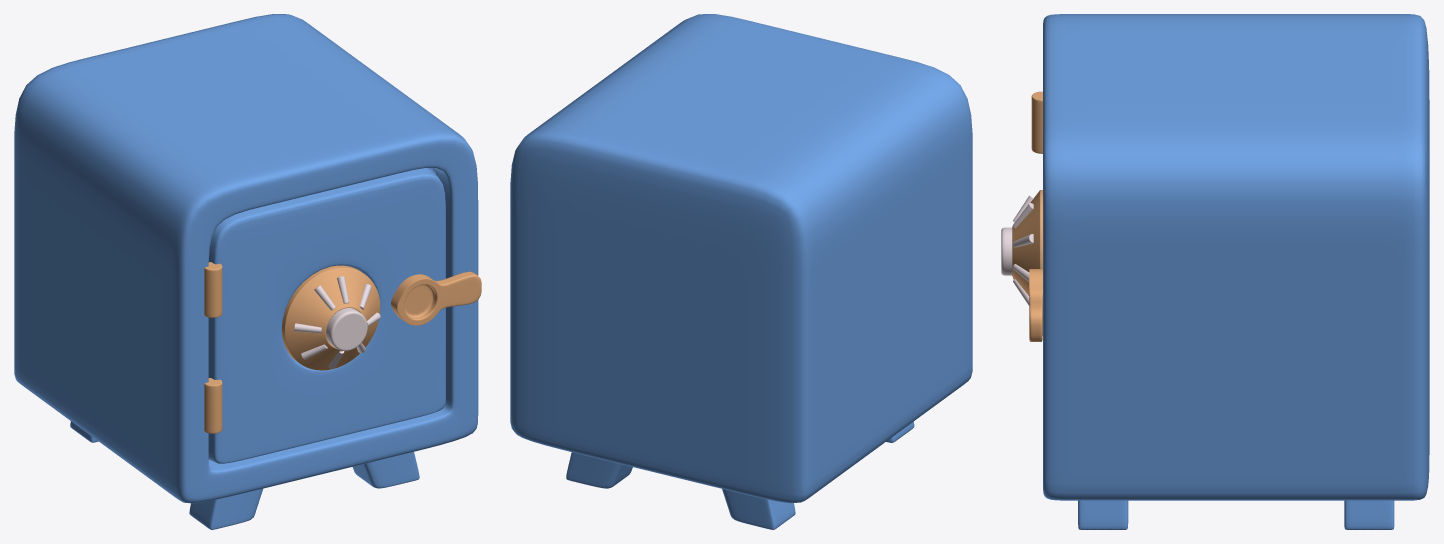
The picture shows the model from 3 angles, left to right: view 1: azimuth 30°, elevation 25°; view 2: azimuth 150°, elevation 25°; view 3: azimuth 270°, elevation 25°; orthographic projection. The views are drawn at different scales.
Parts seen in each view (by area): view 1: Cube, Cube.003, Circle, Cube.001, Circle.001, Cube.002; view 2: Cube, Cube.001; view 3: Cube, Circle, Cube.001, Circle.001, Cube.002.
Part boxes in pixels (left/top/right/bottom): Cube: left=14, top=14, right=478, bottom=503; Cube.003: left=208, top=168, right=445, bottom=463; Circle: left=282, top=265, right=380, bottom=370; Cube.001: left=70, top=421, right=419, bottom=529; Circle.001: left=391, top=271, right=481, bottom=325; Cube.002: left=204, top=262, right=222, bottom=433; Cube: left=510, top=14, right=972, bottom=503; Cube.001: left=566, top=422, right=914, bottom=529; Cube: left=1043, top=14, right=1429, bottom=500; Circle: left=1001, top=190, right=1042, bottom=305; Cube.001: left=1078, top=500, right=1394, bottom=529; Circle.001: left=1029, top=269, right=1042, bottom=341; Cube.002: left=1031, top=91, right=1042, bottom=153.
Size of the model in its own units: 200 by 227 by 221.
